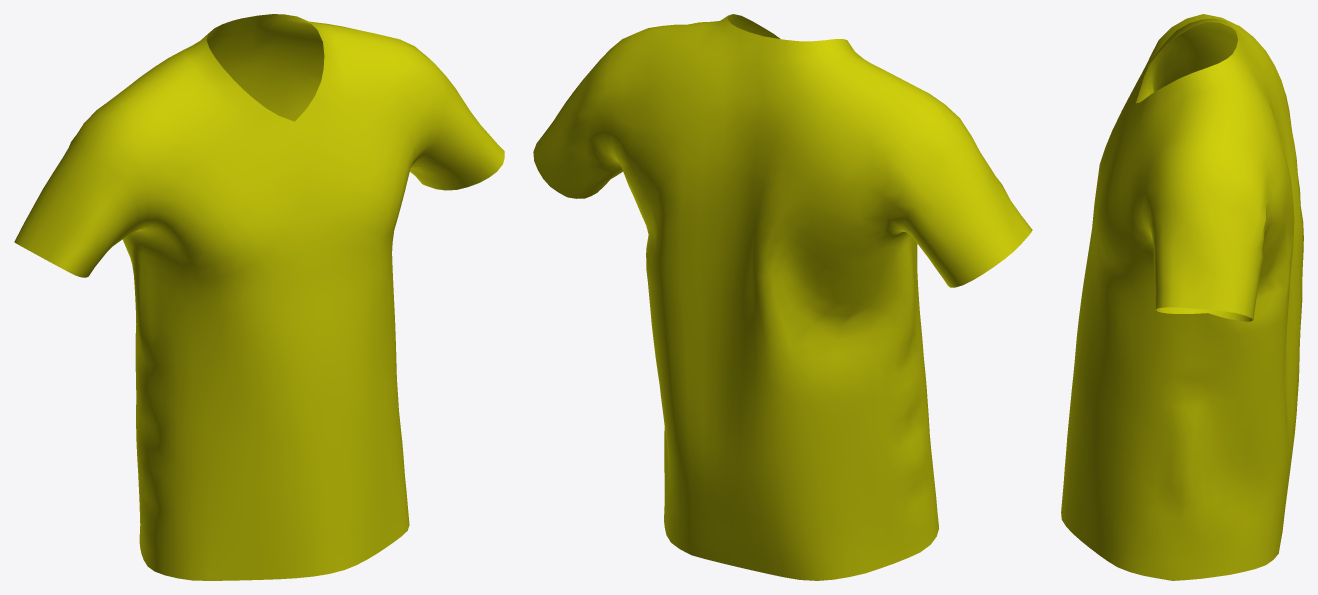
Rendered from Tshirts_simpleModel_high.obj.
The picture shows the model from 3 angles, left to right: view 1: azimuth 30°, elevation 25°; view 2: azimuth 150°, elevation 25°; view 3: azimuth 270°, elevation 25°; orthographic projection. The views are drawn at different scales.
Visible parts, largest first — view 1: Tshirts_simpleModel_high; view 2: Tshirts_simpleModel_high; view 3: Tshirts_simpleModel_high.
Boxes of the visible parts, bbox=[...] form: Tshirts_simpleModel_high: bbox=[14, 14, 504, 580]; Tshirts_simpleModel_high: bbox=[533, 14, 1032, 580]; Tshirts_simpleModel_high: bbox=[1061, 14, 1303, 580].
Bounding box in the file's own units: 59.95 × 62.31 × 27.97.
